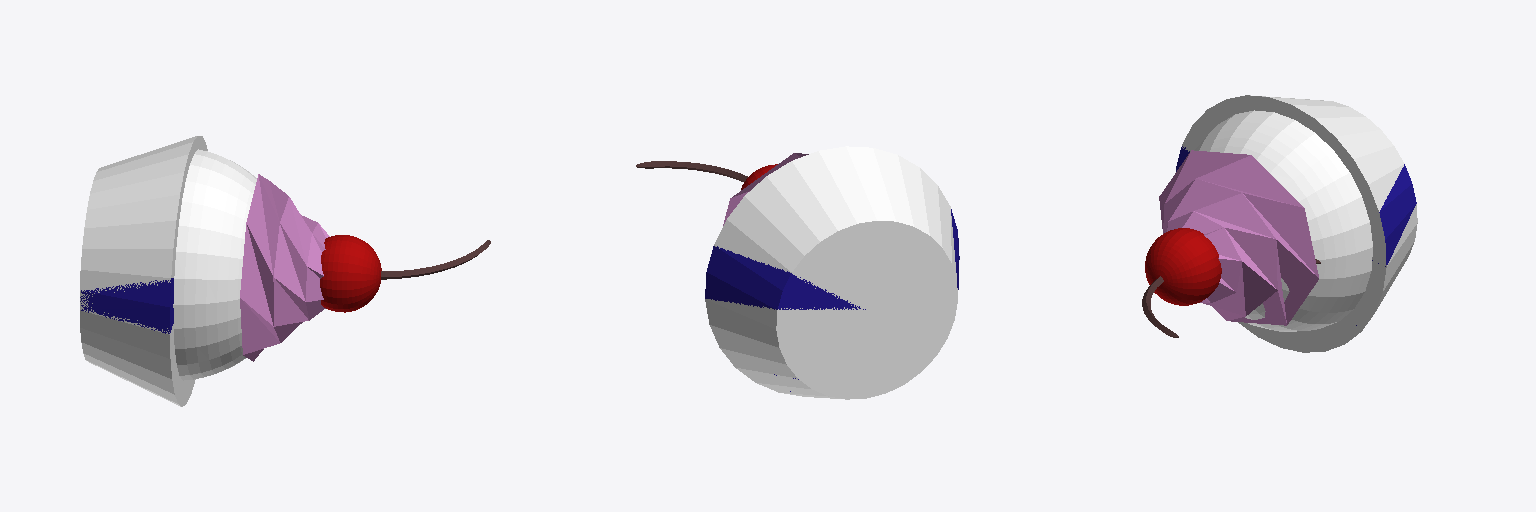
The model's file is cupcake.obj.
The picture shows the model from 3 angles: view 1: azimuth 30°, elevation 25°; view 2: azimuth 150°, elevation 25°; view 3: azimuth 270°, elevation 25°; orthographic projection.
Parts seen in each view (by area): view 1: Sphere, Cone, Sphere1, Cylinder, Capsule; view 2: Sphere, Cylinder, Capsule, Cone; view 3: Sphere, Cone, Sphere1, Cylinder, Capsule.
Boxes of the visible parts, box(x1,y1,x2,y2) form: Sphere: box(80, 136, 256, 406); Cone: box(240, 174, 329, 361); Sphere1: box(320, 235, 381, 312); Cylinder: box(80, 278, 173, 333); Capsule: box(381, 240, 490, 279); Sphere: box(705, 146, 957, 399); Cylinder: box(705, 209, 959, 391); Capsule: box(636, 161, 747, 181); Cone: box(723, 153, 808, 225); Sphere: box(1182, 95, 1417, 352); Cone: box(1159, 150, 1318, 325); Sphere1: box(1145, 228, 1221, 305); Cylinder: box(1176, 146, 1416, 325); Capsule: box(1142, 259, 1320, 337).
Size of the model in its own units: 2.17 by 1.4 by 1.41.